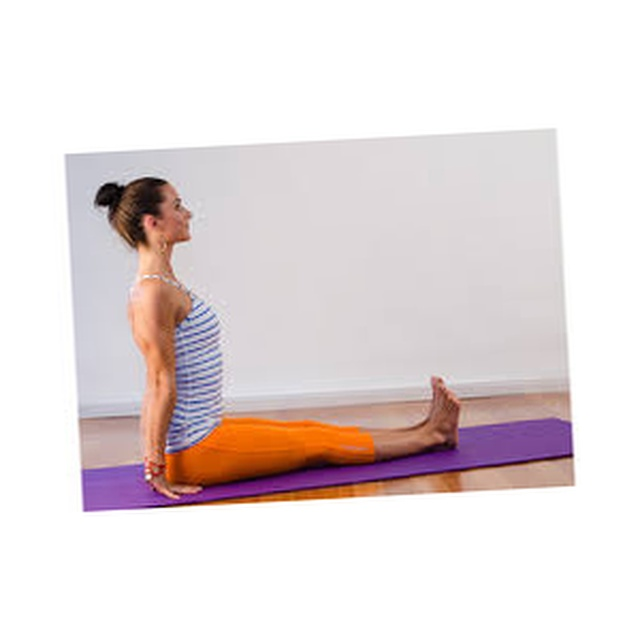Staff_Pose: (94, 177, 461, 501)
